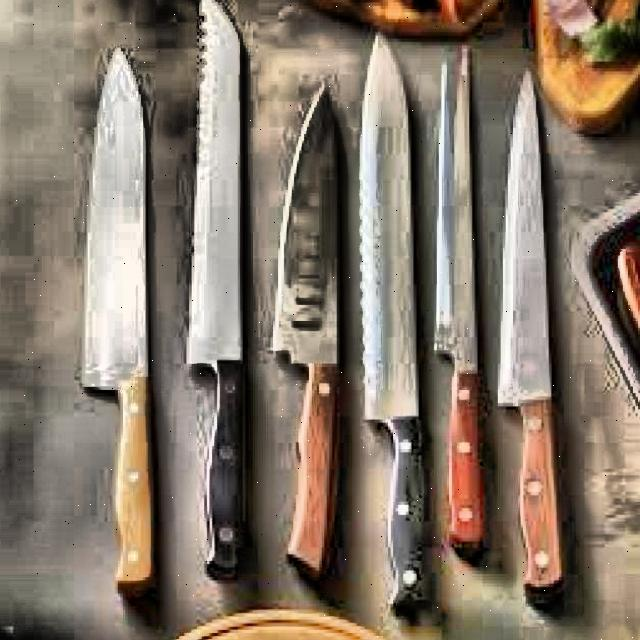knife: (358, 33, 439, 624), (185, 0, 261, 585), (82, 45, 159, 590), (493, 66, 571, 595), (274, 79, 340, 580), (432, 35, 492, 564)
